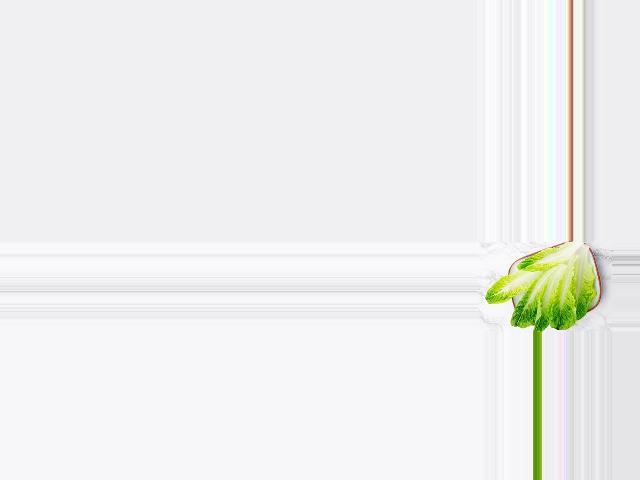lettuce: (483, 244, 602, 332)
